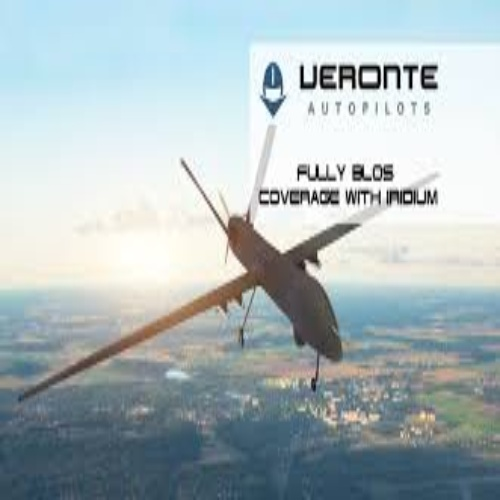uav: (18, 123, 444, 391)
